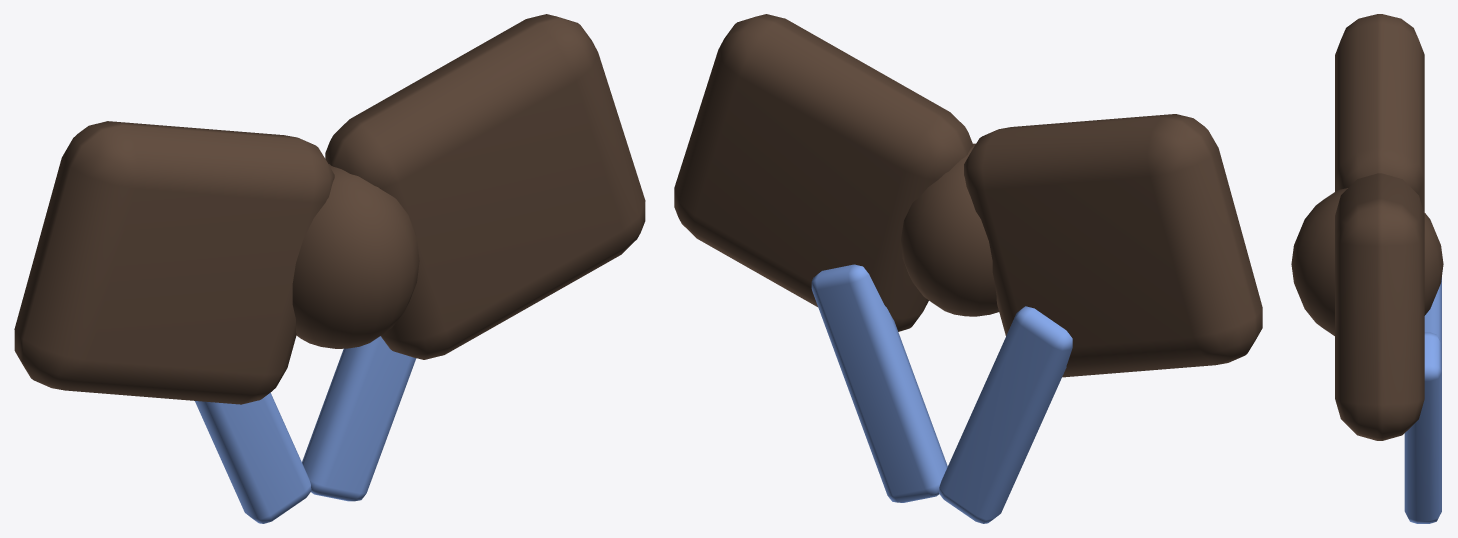
Rendered from acc_bow.glb.
The picture shows the model from 3 angles, left to right: view 1: azimuth 30°, elevation 25°; view 2: azimuth 150°, elevation 25°; view 3: azimuth 270°, elevation 25°; orthographic projection. The views are drawn at different scales.
Visible parts, largest first — view 1: acc_bow; view 2: acc_bow; view 3: acc_bow.
Boxes of the visible parts, x1,y1,x2,y2 form: acc_bow: (14,14,645,523); acc_bow: (674,14,1262,523); acc_bow: (1291,14,1443,523).
Size of the model in its own units: 0.1985 by 0.1395 by 0.049.
